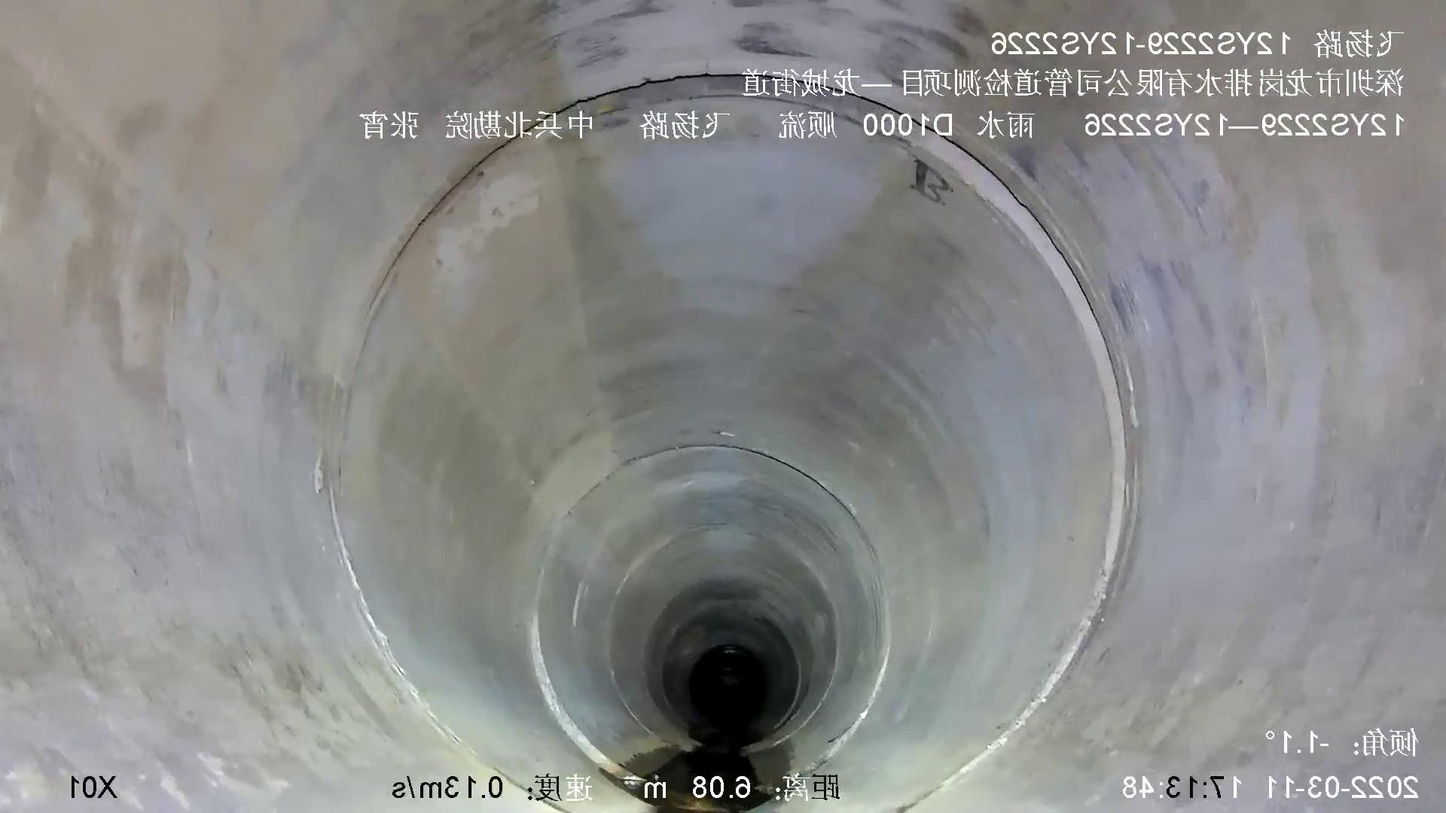CKTJ: (371, 71, 1129, 762), (529, 611, 636, 782), (802, 636, 891, 770)
